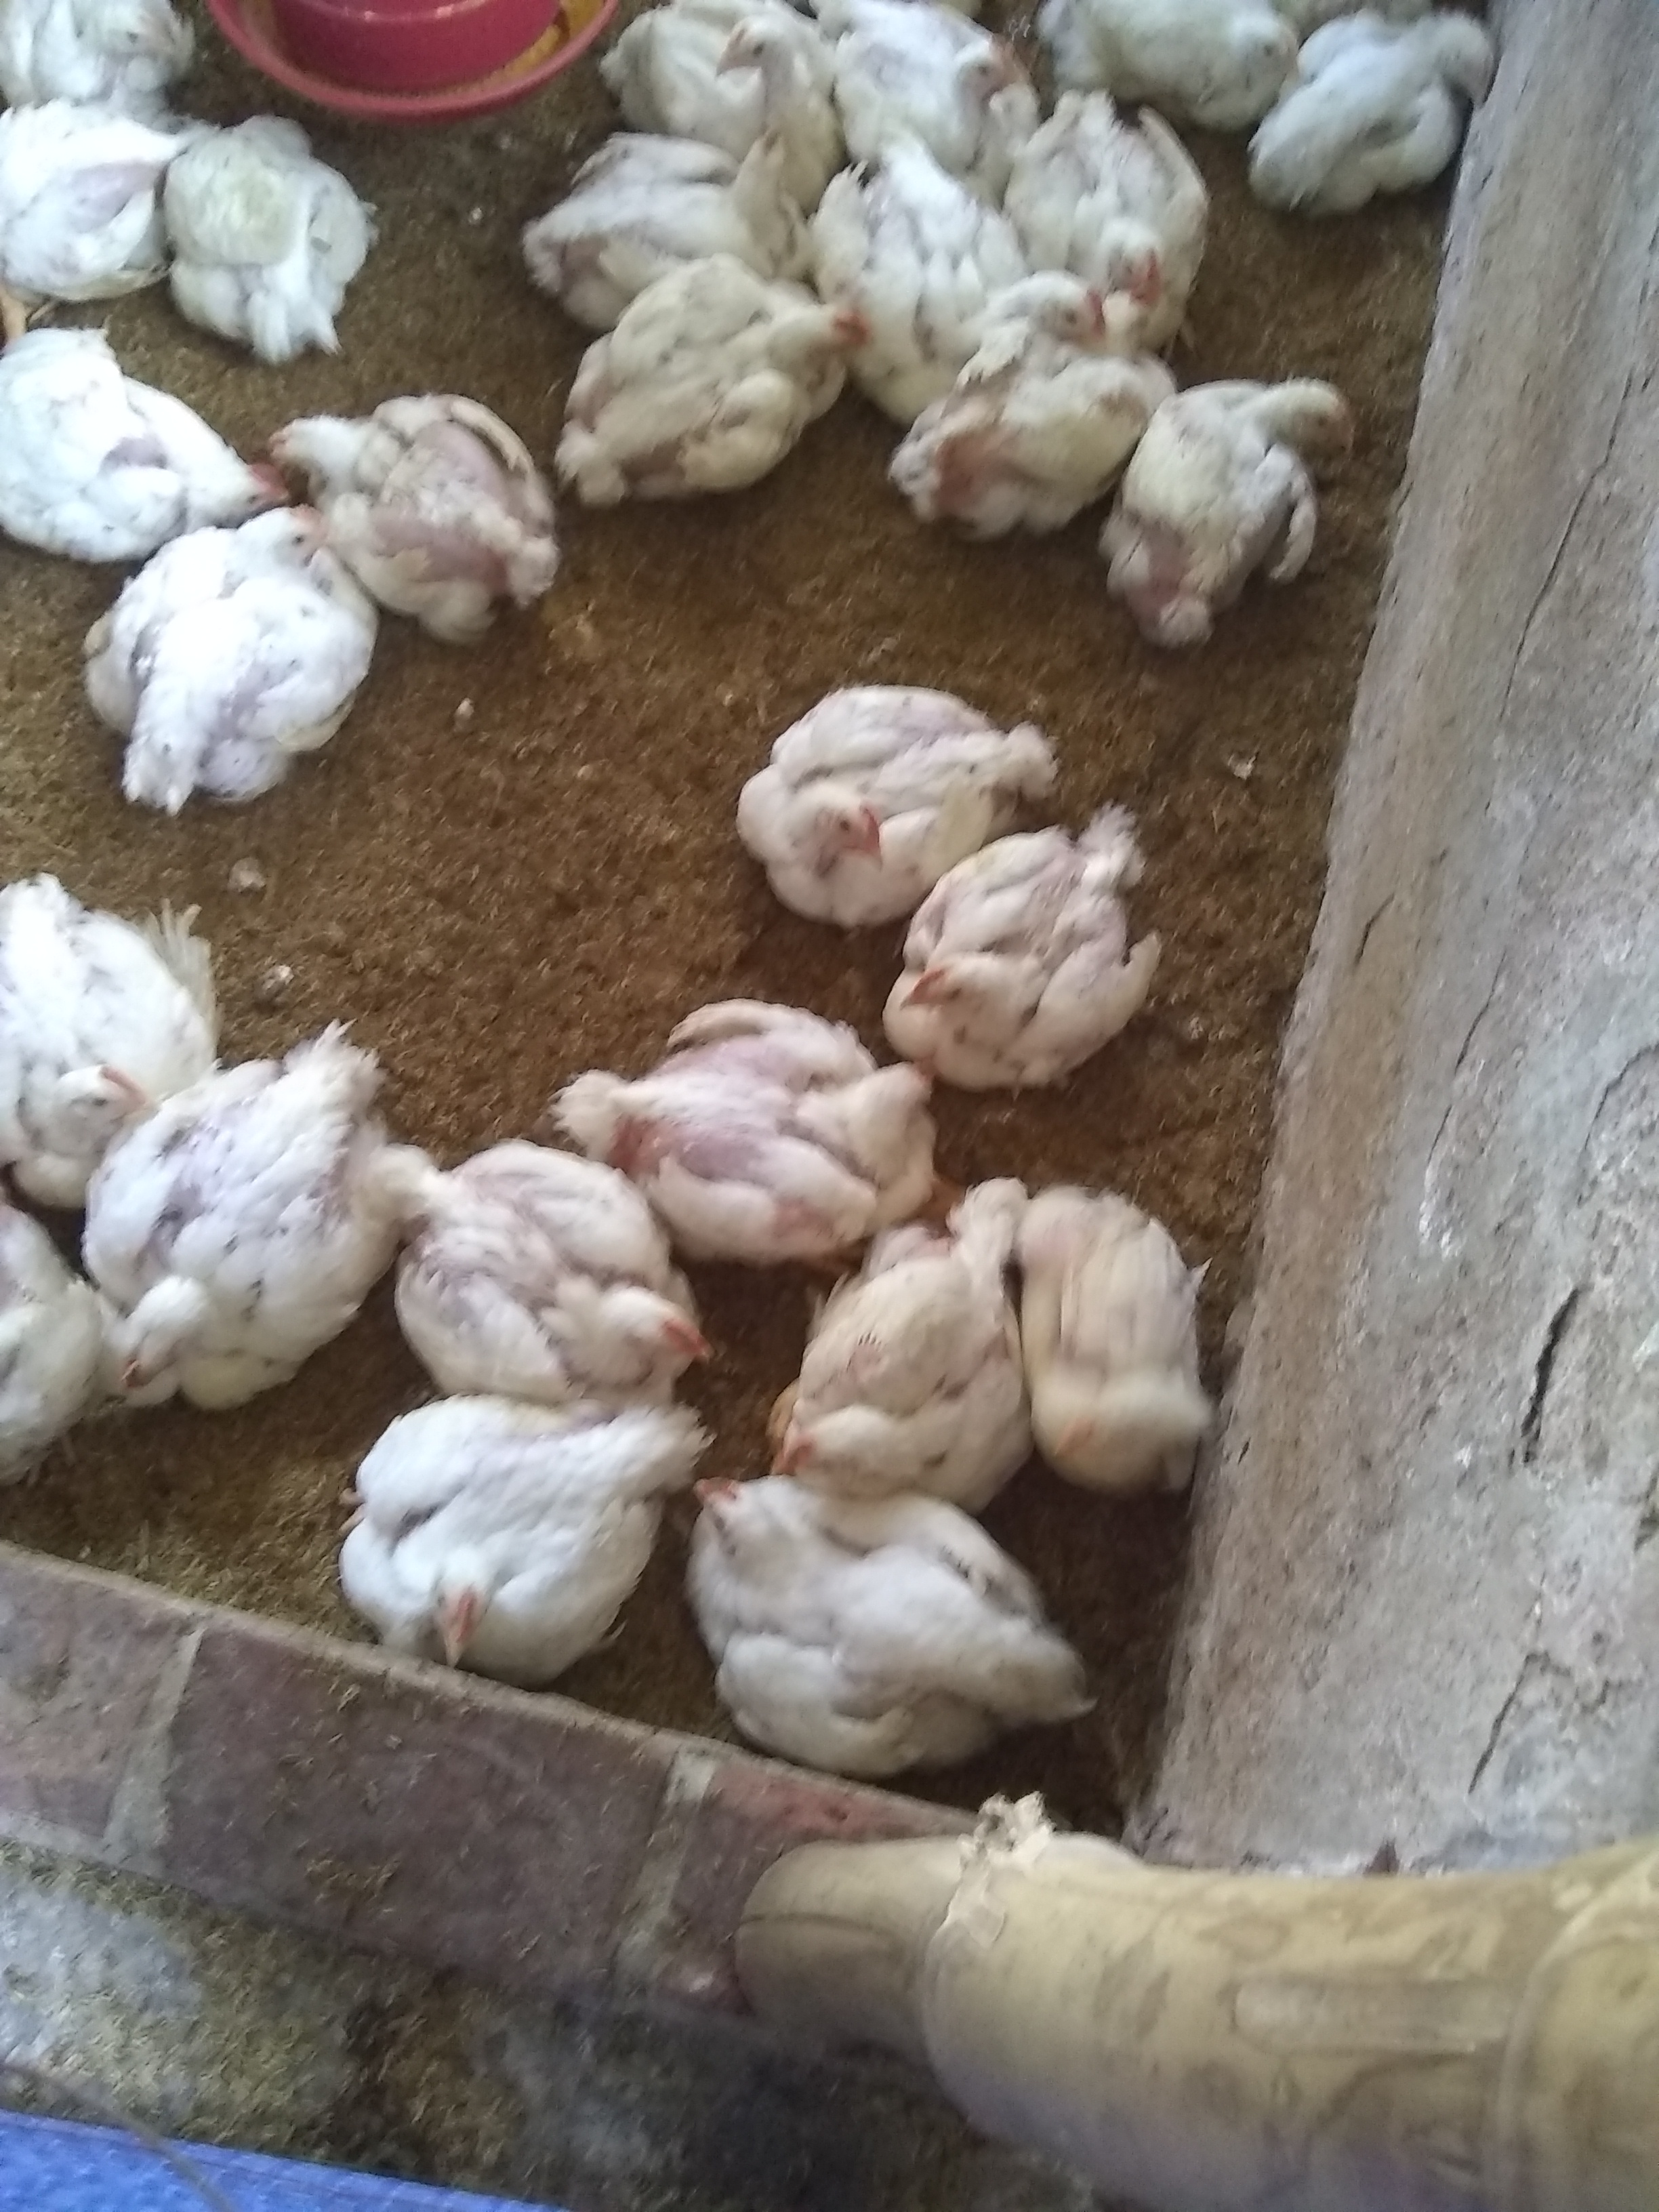Pollos: (650, 1467, 1119, 1784), (314, 1385, 702, 1684), (80, 1029, 376, 1399), (380, 1136, 721, 1393), (613, 989, 941, 1256), (77, 502, 342, 819), (274, 385, 577, 651), (749, 1211, 1021, 1507), (882, 801, 1159, 1082), (1115, 374, 1382, 631), (903, 287, 1162, 545), (1021, 1176, 1237, 1479), (0, 890, 220, 1170), (5, 312, 247, 563), (1256, 3, 1513, 240), (579, 294, 854, 514), (716, 660, 972, 895), (162, 111, 389, 348), (545, 125, 788, 294), (0, 1198, 99, 1507), (896, 207, 1101, 340), (877, 9, 1042, 165), (17, 143, 178, 303), (1084, 9, 1304, 117), (0, 0, 197, 113), (1075, 153, 1222, 268), (720, 14, 833, 131)
